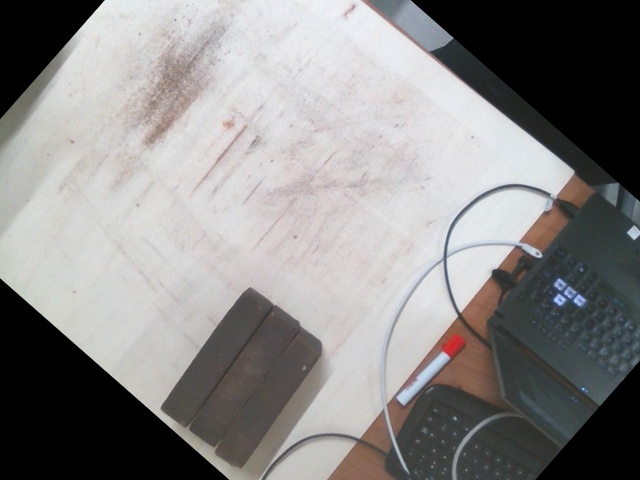brick-side: (213, 336, 322, 469), (187, 312, 296, 444), (159, 291, 267, 424)
